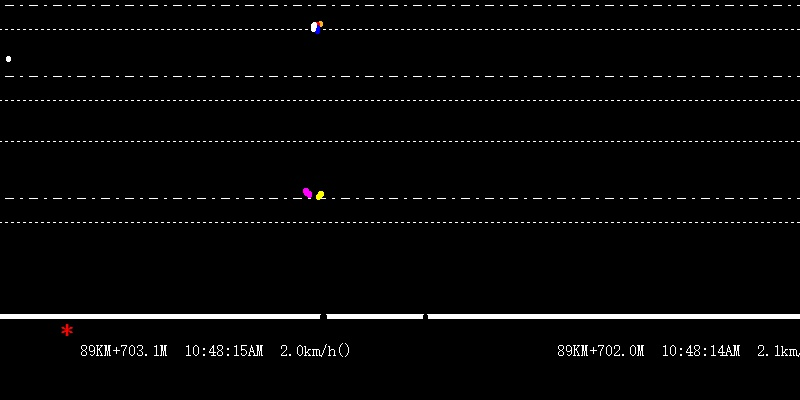face_2: (308, 20, 326, 35)
star: (60, 321, 74, 338)
